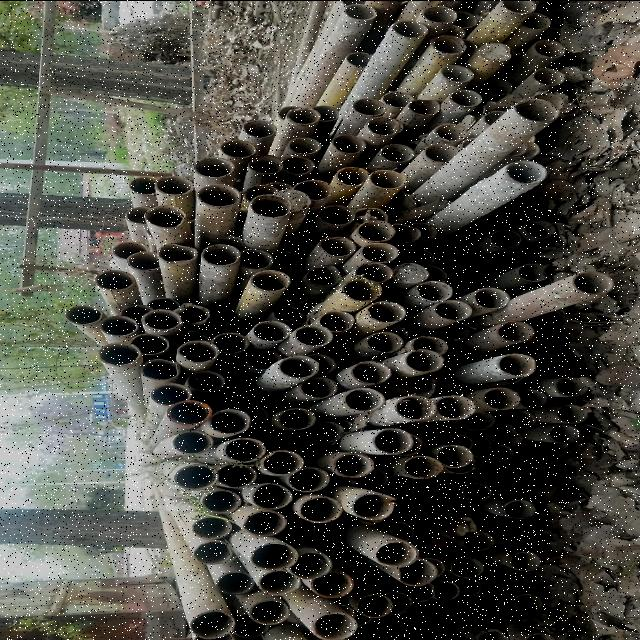pipe: (310, 611, 358, 639), (308, 568, 352, 598), (187, 610, 233, 638), (249, 542, 298, 568), (173, 461, 216, 489), (512, 96, 558, 122), (166, 398, 212, 424), (349, 492, 395, 518), (373, 540, 418, 566), (371, 427, 412, 455), (392, 394, 436, 420), (220, 436, 264, 462), (242, 509, 286, 535), (290, 550, 330, 578), (213, 462, 256, 488), (227, 612, 270, 638), (206, 407, 250, 432), (286, 466, 328, 492), (298, 495, 340, 521), (212, 568, 254, 594), (432, 395, 476, 419), (257, 449, 301, 473), (330, 452, 374, 476), (342, 386, 384, 411), (572, 268, 612, 294), (250, 482, 290, 508), (249, 598, 289, 624), (504, 160, 550, 182), (197, 182, 239, 206), (143, 203, 185, 227), (97, 341, 139, 365), (494, 352, 536, 376), (189, 540, 231, 564), (257, 570, 299, 594), (402, 453, 442, 478), (394, 558, 432, 584), (150, 381, 190, 405), (177, 339, 217, 363), (199, 488, 239, 512), (278, 517, 318, 541), (341, 277, 382, 300), (248, 269, 290, 291), (93, 268, 135, 290), (478, 386, 520, 408), (350, 360, 390, 383), (252, 318, 290, 342), (172, 429, 210, 453), (296, 375, 337, 397), (185, 369, 224, 392), (192, 156, 234, 177), (292, 177, 332, 199), (292, 324, 332, 346), (274, 354, 314, 376), (190, 516, 230, 538), (305, 263, 343, 286), (140, 356, 178, 379), (200, 242, 239, 264), (356, 218, 394, 240), (317, 234, 355, 256), (391, 261, 429, 283), (63, 302, 101, 324), (99, 314, 137, 336), (172, 302, 210, 324), (130, 332, 168, 354), (367, 300, 405, 322), (278, 406, 316, 428), (435, 444, 473, 466), (353, 594, 391, 616), (354, 261, 393, 282), (274, 188, 308, 212), (308, 419, 342, 443), (245, 348, 282, 370), (158, 242, 198, 262), (494, 320, 534, 340), (409, 335, 447, 356), (429, 33, 465, 55), (378, 141, 414, 163), (110, 239, 146, 261), (414, 278, 450, 300), (118, 302, 154, 324), (318, 308, 354, 330), (366, 330, 402, 352), (235, 402, 268, 426), (318, 339, 352, 362), (351, 468, 388, 489), (381, 589, 412, 614), (419, 535, 454, 557), (155, 174, 193, 194), (359, 242, 397, 262), (334, 164, 368, 186), (238, 246, 272, 268), (400, 245, 434, 267), (474, 286, 508, 308), (301, 352, 335, 374), (445, 517, 479, 539), (370, 168, 406, 188), (331, 133, 367, 153), (218, 138, 254, 158), (317, 204, 353, 224), (269, 300, 305, 320), (434, 299, 470, 319), (402, 484, 438, 504), (457, 481, 493, 501), (516, 386, 548, 408), (508, 548, 540, 570), (481, 421, 516, 441), (377, 521, 412, 541), (530, 91, 566, 110), (366, 116, 404, 134), (240, 118, 276, 137), (477, 41, 511, 61), (424, 142, 458, 162), (286, 104, 320, 124), (522, 218, 556, 238), (516, 261, 550, 281), (126, 249, 160, 269), (174, 329, 208, 349), (438, 319, 472, 339), (461, 409, 495, 429), (554, 376, 588, 396), (553, 402, 587, 422), (547, 422, 581, 442), (406, 421, 438, 442), (243, 184, 280, 202), (349, 96, 384, 115), (125, 175, 158, 195), (510, 592, 543, 612), (420, 4, 456, 22), (286, 135, 322, 153), (353, 206, 387, 225), (532, 66, 564, 86), (503, 498, 535, 518), (449, 556, 481, 576), (391, 19, 428, 36), (432, 121, 465, 140), (200, 320, 233, 339), (343, 2, 377, 20), (517, 11, 551, 29), (380, 89, 414, 107), (532, 38, 564, 57), (432, 379, 464, 398), (390, 222, 420, 242), (394, 434, 424, 454), (506, 408, 536, 428), (463, 531, 493, 551), (449, 88, 482, 106), (406, 222, 439, 240), (426, 414, 459, 432), (402, 582, 433, 601), (489, 229, 521, 247), (205, 309, 241, 325), (481, 443, 513, 461), (442, 455, 474, 473), (420, 264, 448, 284), (408, 97, 439, 115), (274, 257, 305, 275), (441, 432, 472, 450), (146, 296, 180, 312), (481, 77, 511, 95), (223, 381, 253, 399), (431, 579, 458, 599), (124, 205, 152, 224), (180, 630, 233, 640), (440, 64, 473, 80), (454, 575, 480, 595), (312, 102, 339, 121), (488, 560, 516, 578), (344, 50, 374, 66), (450, 8, 476, 26), (482, 107, 508, 125), (276, 102, 302, 120), (470, 512, 496, 530), (520, 142, 548, 158), (476, 626, 508, 640), (500, 0, 537, 12), (496, 49, 520, 67), (500, 136, 524, 154), (465, 434, 489, 452), (493, 194, 519, 210), (519, 630, 559, 640), (351, 608, 373, 626), (442, 23, 466, 39), (491, 370, 521, 382), (266, 181, 294, 193), (239, 320, 259, 334), (336, 602, 356, 616), (339, 0, 365, 6)
